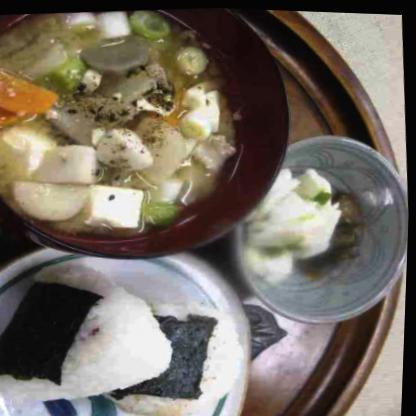rice roll: (0, 247, 176, 405), (116, 299, 248, 411)
